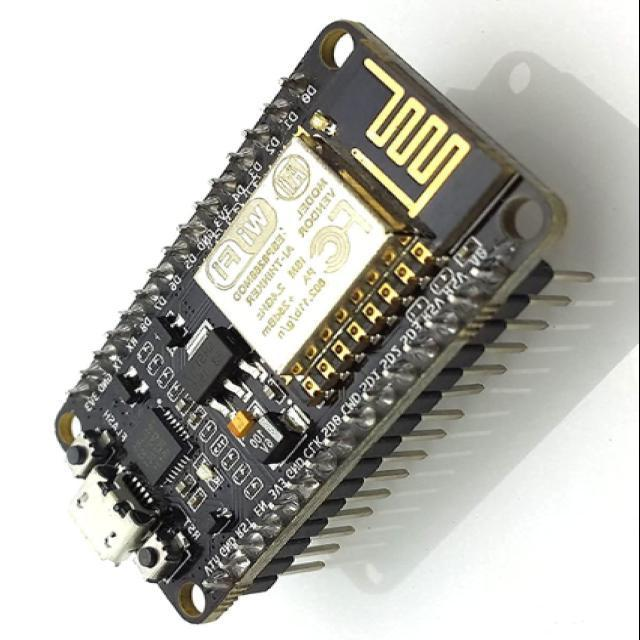Esp8266: (56, 21, 565, 624)
